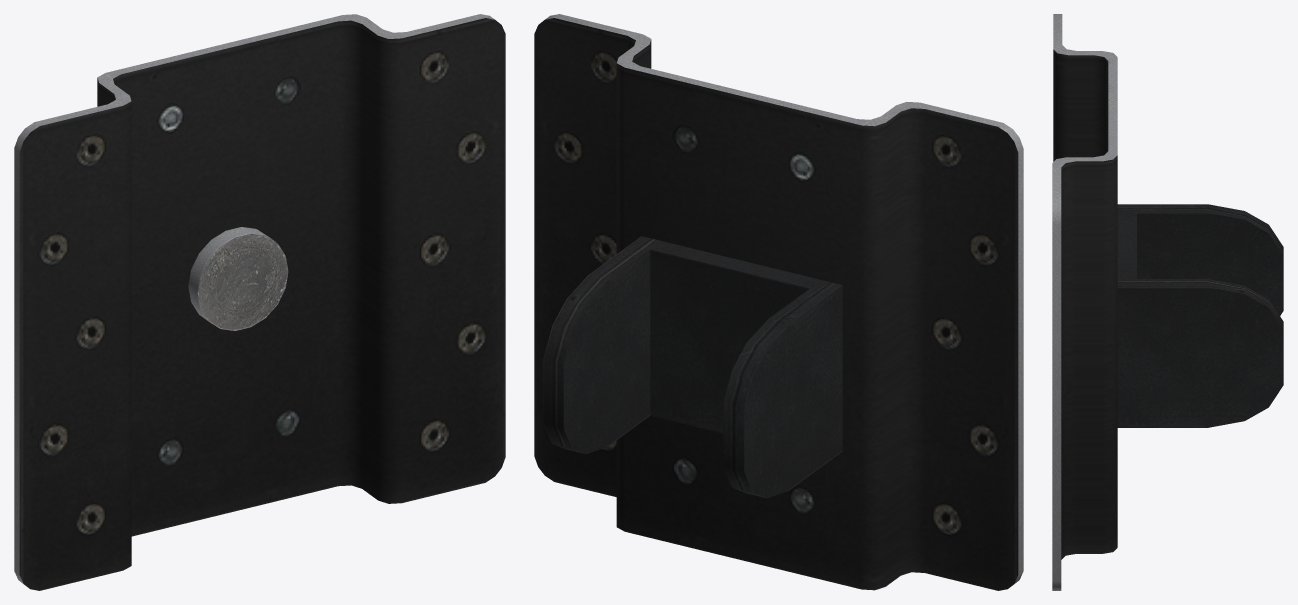
Rendered from wall_mount_arm-4.FBX.
3 views of the same model, side by side, from view 1: azimuth 30°, elevation 25°; view 2: azimuth 150°, elevation 25°; view 3: azimuth 270°, elevation 25° (orthographic). The views are drawn at different scales.
Visible parts, largest first — view 1: connector_LOD0; view 2: connector_LOD0; view 3: connector_LOD0.
Part boxes in pixels (x1,y1,x2,y2): connector_LOD0: (14,14,505,590); connector_LOD0: (534,14,1023,590); connector_LOD0: (1052,14,1283,590).
Size of what is drawn, in the model's own units: 8.74 by 8 by 4.28.
